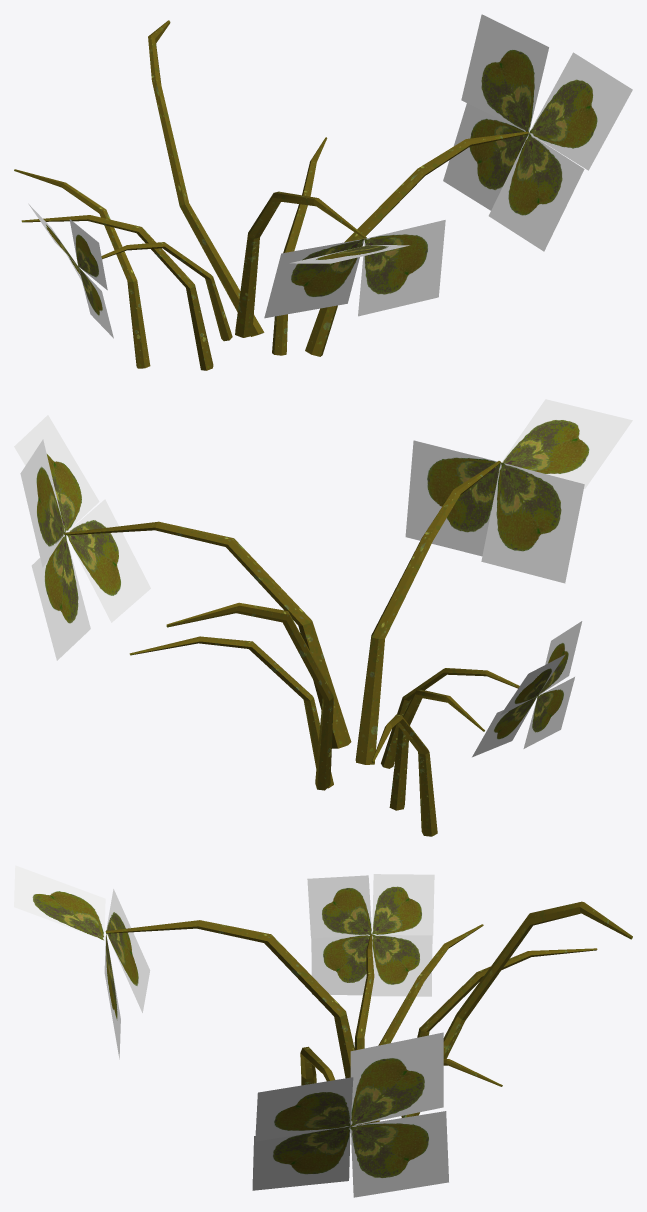
The model's file is Houseplant_3_Leaves_Dead_PROP.fbx.
3 views of the same model, one above another, from view 1: azimuth 30°, elevation 25°; view 2: azimuth 150°, elevation 25°; view 3: azimuth 270°, elevation 25° (orthographic). The views are drawn at different scales.
Visible parts, largest first — view 1: polySurface70; view 2: polySurface70; view 3: polySurface70.
Boxes of the visible parts, x1,y1,x2,y2 form: polySurface70: (14, 14, 632, 370); polySurface70: (14, 399, 632, 836); polySurface70: (14, 865, 632, 1197).
Bounding box in the file's own units: 0.3785 × 0.1744 × 0.3662.
